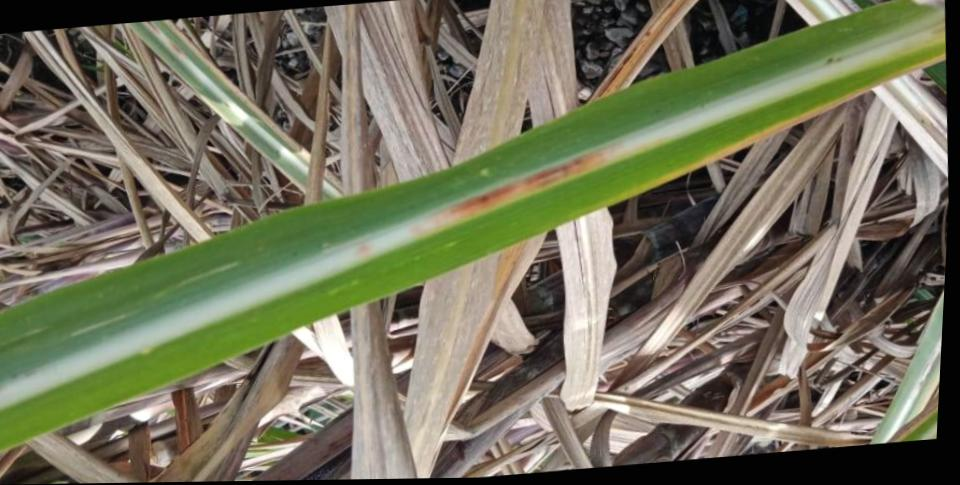RedRot: (410, 135, 672, 242), (358, 244, 372, 256)
